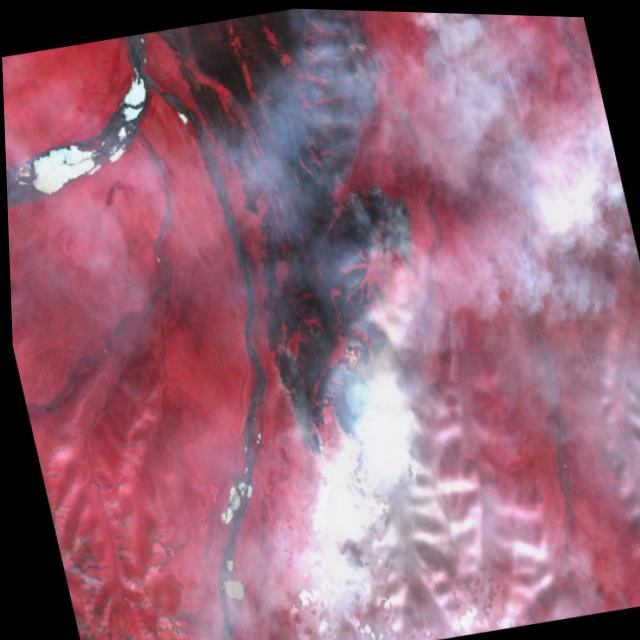fire: (229, 167, 462, 474), (338, 14, 373, 54)
